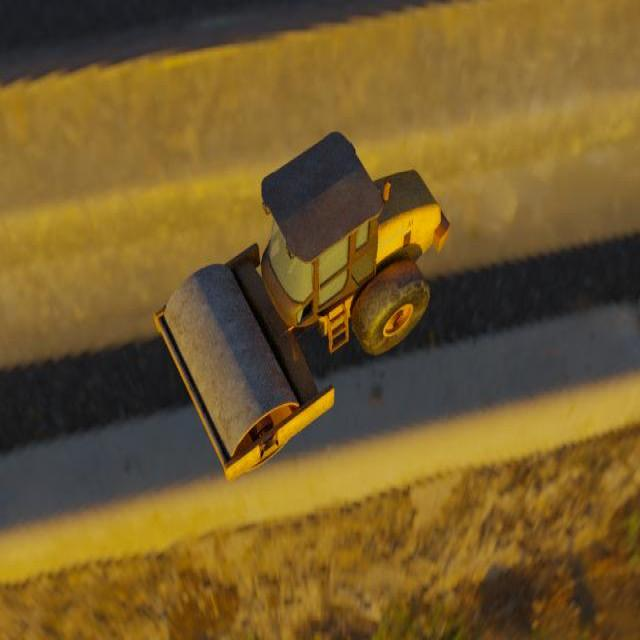Roller: (153, 131, 450, 481)
